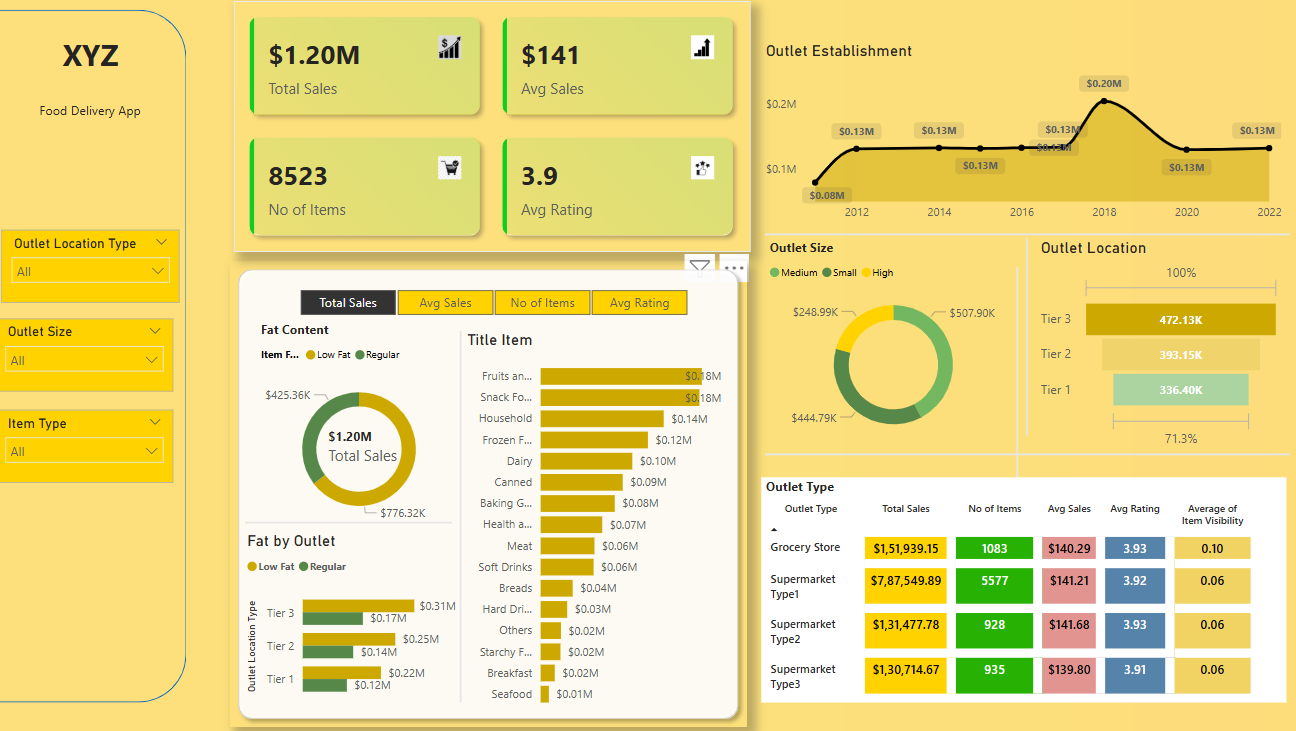

Layout of this report page (visuals, bound fields, positions):
{"tool":"powerbi","page":{"name":"Page 1","canvas":[1400,800],"ordinal":0},"visuals":[{"type":"shape","box":[0,19.5,205.2,742.9],"z":0},{"type":"textbox","box":[11.7,41.6,180.5,72.7],"z":1000},{"type":"textbox","box":[22.1,114.3,161,32.5],"z":2000},{"type":"cardVisual","fields":{"Data":["BlinkIT-Grocery-Data.Total Sales","BlinkIT-Grocery-Data.Avg Sales","BlinkIT-Grocery-Data.No of Items","BlinkIT-Grocery-Data.Avg Rating"]},"box":[256,10.7,553.6,269.4],"z":3000},{"type":"shape","box":[252,289,554,500],"z":4000},{"type":"donutChart","title":"Fat Content","fields":{"Y":["BlinkIT-Grocery-Data.Total Sales"],"Category":["BlinkIT-Grocery-Data.Item Fat Content"]},"box":[280.5,354.5,220.8,229.9],"z":5000},{"type":"slicer","fields":{"Values":["Metrics.Metrics"]},"box":[301.3,314.3,464.9,40.3],"z":6000},{"type":"cardVisual","fields":{"Data":["BlinkIT-Grocery-Data.Total Sales"]},"box":[340.3,451.9,118.2,70.1],"z":7000},{"type":"clusteredBarChart","title":"Fat by Outlet","fields":{"Y":["BlinkIT-Grocery-Data.Total Sales"],"Category":["BlinkIT-Grocery-Data.Outlet Location Type"],"Series":["BlinkIT-Grocery-Data.Item Fat Content"]},"box":[265.7,578.6,234.3,192.9],"z":8000},{"type":"shape","box":[267.5,561,222.1,16.9],"z":9000},{"type":"shape","box":[1090,295.7,12.9,225.7],"z":10000},{"type":"barChart","title":"Title Item","fields":{"Y":["BlinkIT-Grocery-Data.Total Sales"],"Category":["BlinkIT-Grocery-Data.Item Type"]},"box":[501.3,363.6,283.1,414.3],"z":11000},{"type":"lineChart","title":"Outlet Establishment","fields":{"Category":["BlinkIT-Grocery-Data.Outlet Establishment Year"],"Y":["BlinkIT-Grocery-Data.Total Sales"]},"box":[821.4,54.3,562.9,201.4],"z":13000},{"type":"shape","box":[825.7,491.4,562.9,10],"z":14000},{"type":"donutChart","title":"Outlet Size","fields":{"Y":["BlinkIT-Grocery-Data.Total Sales"],"Category":["BlinkIT-Grocery-Data.Outlet Size"]},"box":[825.7,265.7,275.7,225.7],"z":15000},{"type":"shape","box":[488.6,364.3,22.9,398.6],"z":16000},{"type":"shape","box":[1097.1,265.7,20,211.4],"z":17000},{"type":"funnel","title":"Outlet Location","fields":{"Category":["BlinkIT-Grocery-Data.Outlet Location Type"],"Y":["Sum(BlinkIT-Grocery-Data.Sales)"]},"box":[1117.1,265.7,267.1,230],"z":18000},{"type":"shape","box":[825.7,255.7,562.9,10],"z":19000},{"type":"pivotTable","title":"Outlet Type","fields":{"Rows":["BlinkIT-Grocery-Data.Outlet Type"],"Values":["BlinkIT-Grocery-Data.Total Sales","BlinkIT-Grocery-Data.No of Items","BlinkIT-Grocery-Data.Avg Sales","BlinkIT-Grocery-Data.Avg Rating","Avg(BlinkIT-Grocery-Data.Item Visibility)"]},"box":[821.4,521.4,562.9,241.4],"z":20000},{"type":"slicer","fields":{"Values":["BlinkIT-Grocery-Data.Outlet Location Type"]},"box":[7.1,255.7,191.4,78.6],"z":21000},{"type":"slicer","fields":{"Values":["BlinkIT-Grocery-Data.Outlet Size"]},"box":[0,351.4,191.4,78.6],"z":22000},{"type":"slicer","fields":{"Values":["BlinkIT-Grocery-Data.Item Type"]},"box":[0,448.6,191.4,78.6],"z":23000}]}

Visuals, with their boxes in screenshot pixels (x1, y1, x2, y2), scaled from the page's 1400x800 canvas onto the 1296x731 screenshot:
shape: bbox(0, 18, 190, 697)
textbox: bbox(11, 38, 178, 104)
textbox: bbox(20, 104, 169, 134)
cardVisual - BlinkIT-Grocery-Data.Total Sales x BlinkIT-Grocery-Data.Avg Sales: bbox(237, 10, 749, 256)
shape: bbox(233, 264, 746, 721)
"Fat Content" donutChart: bbox(260, 324, 464, 534)
slicer - Metrics.Metrics: bbox(279, 287, 709, 324)
cardVisual - BlinkIT-Grocery-Data.Total Sales: bbox(315, 413, 424, 477)
"Fat by Outlet" clusteredBarChart: bbox(246, 529, 463, 705)
shape: bbox(248, 513, 453, 528)
shape: bbox(1009, 270, 1021, 476)
"Title Item" barChart: bbox(464, 332, 726, 711)
"Outlet Establishment" lineChart: bbox(760, 50, 1281, 234)
shape: bbox(764, 449, 1285, 458)
"Outlet Size" donutChart: bbox(764, 243, 1020, 449)
shape: bbox(452, 333, 474, 697)
shape: bbox(1016, 243, 1034, 436)
"Outlet Location" funnel: bbox(1034, 243, 1281, 453)
shape: bbox(764, 234, 1285, 243)
"Outlet Type" pivotTable: bbox(760, 476, 1281, 697)
slicer - BlinkIT-Grocery-Data.Outlet Location Type: bbox(7, 234, 184, 305)
slicer - BlinkIT-Grocery-Data.Outlet Size: bbox(0, 321, 177, 393)
slicer - BlinkIT-Grocery-Data.Item Type: bbox(0, 410, 177, 482)
